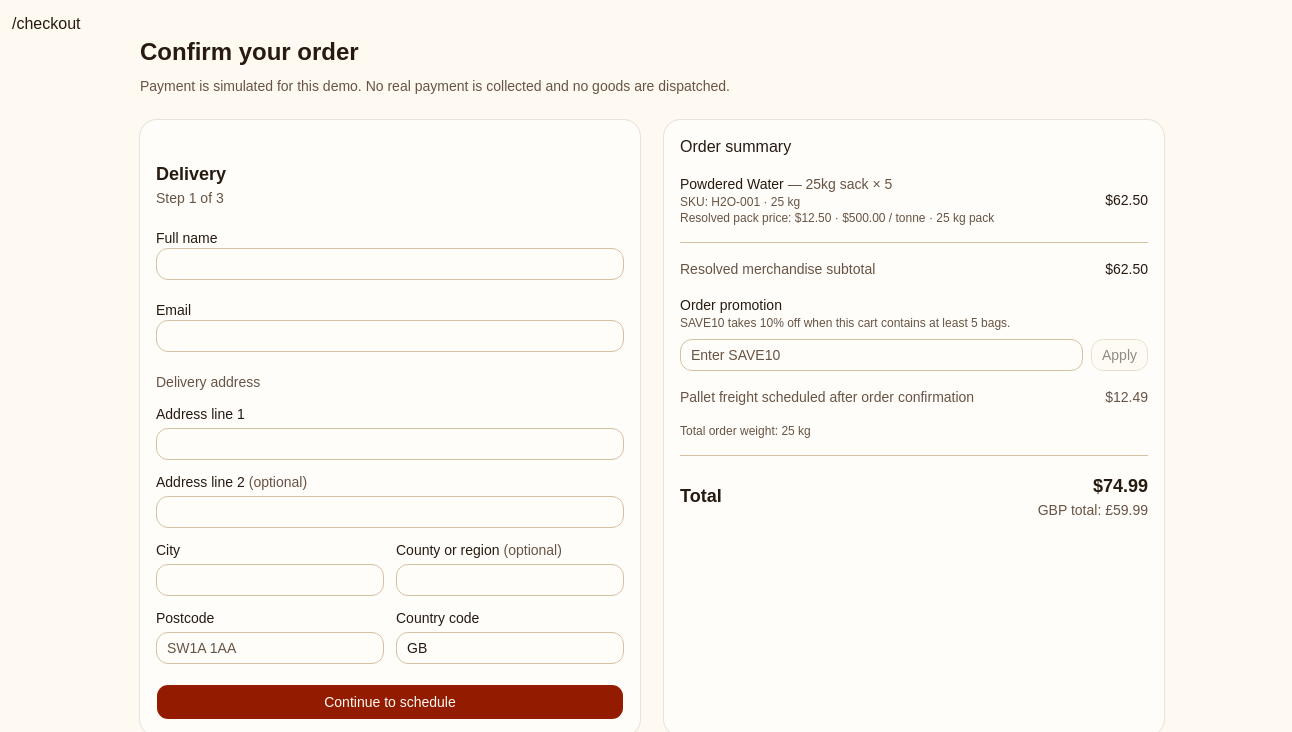
Test: Checkout summary and promotions › renders server-provided scoped promo details without recalculating totals
Type "AGG10" into the field labelled "Order promotion". click: (882, 355)
box: left=680, top=339, right=1083, bottom=371
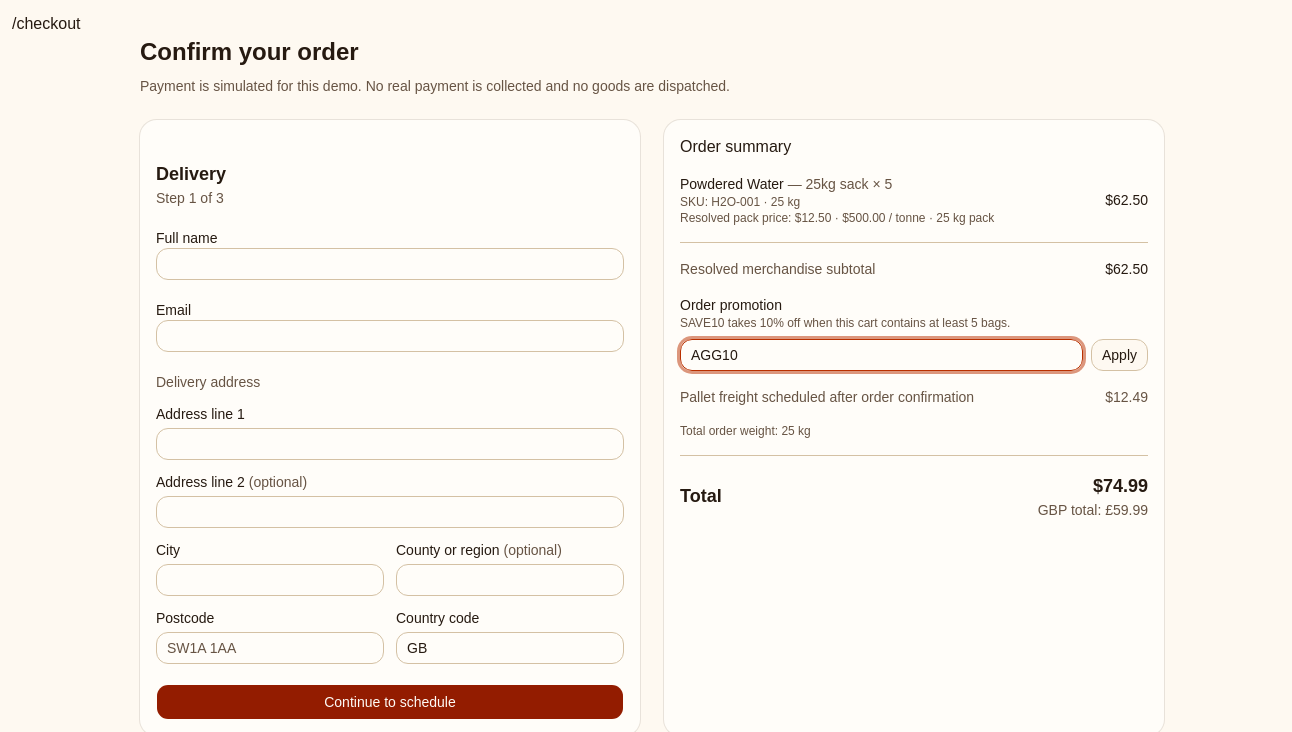
Click the button "Apply". click: (1120, 355)
box: left=1091, top=339, right=1148, bottom=371
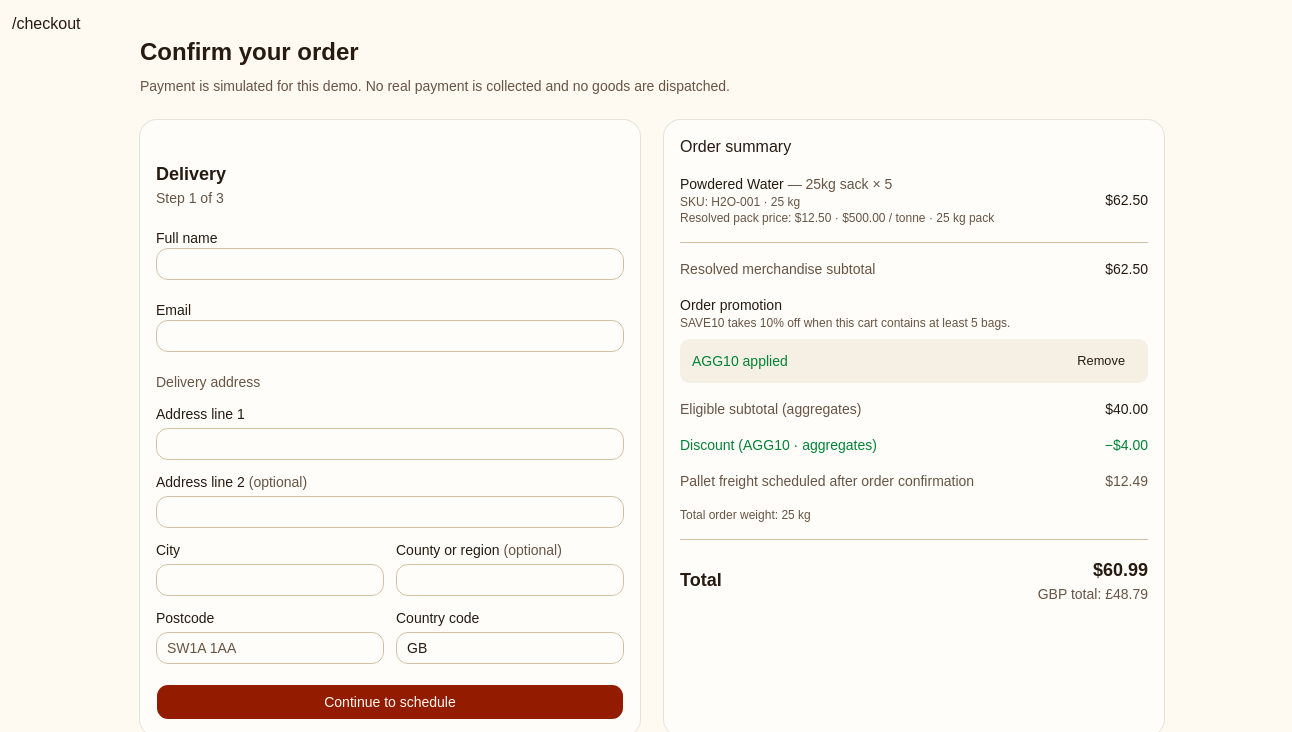
Now the text "Eligible subtotal (aggregates)" is shown, box left=680, top=399, right=861, bottom=419
Now the text "$40.00" is shown, box left=1105, top=399, right=1148, bottom=419
Now the text "Discount (AGG10 · aggregates)" is shown, box left=680, top=435, right=877, bottom=455
